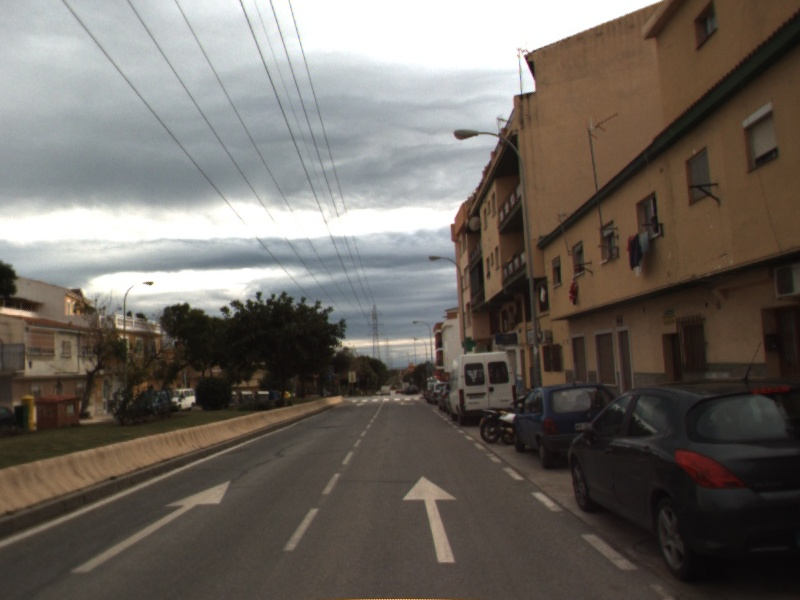STRAIGHT: (67, 478, 233, 575), (400, 473, 459, 564)
